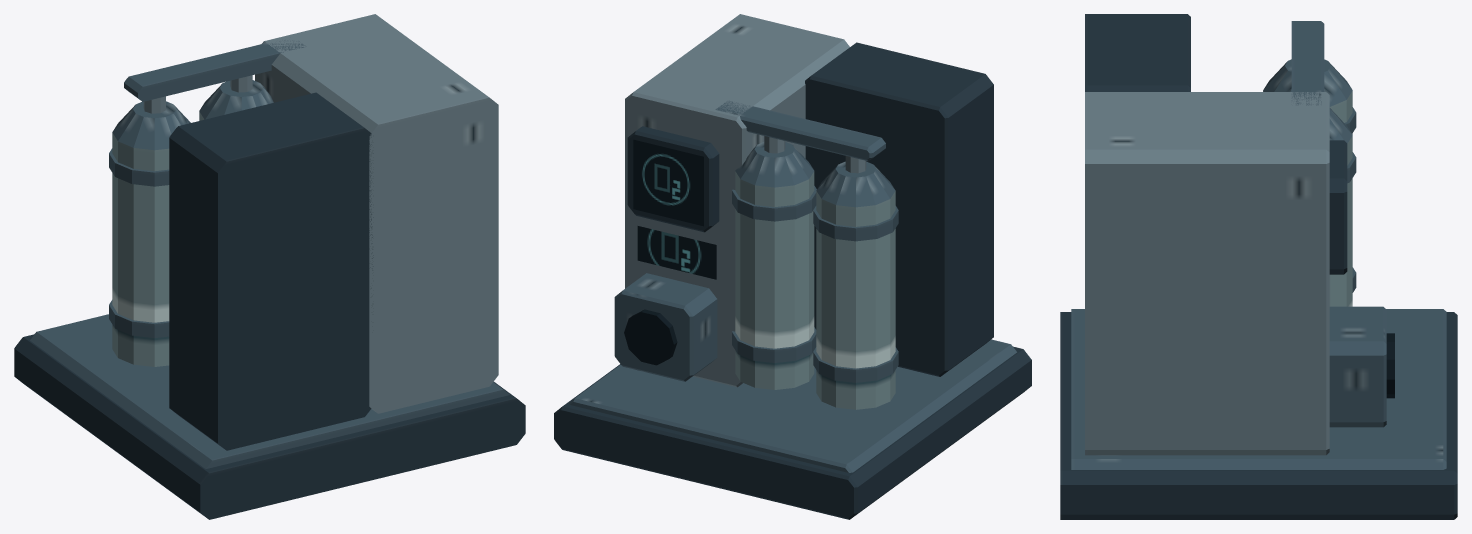
Rendered from life_support_station.obj.
3 views of the same model, side by side, from view 1: azimuth 30°, elevation 25°; view 2: azimuth 150°, elevation 25°; view 3: azimuth 270°, elevation 25° (orthographic). The views are drawn at different scales.
Parts seen in each view (by area): view 1: filter_bank, air_processor, plinth, plinth_trim, pressure_tank_3_9, manifold, tank_shoulder_3_9, tank_shoulder_7_8, tank_band_3_9_4_3, tank_band_3_9_10_8; view 2: filter_bank, air_processor, plinth_trim, plinth, pressure_tank_3_9, pressure_tank_7_8, canister_dock, oxygen_display, manifold, oxygen_display_bezel, service_label, tank_shoulder_3_9 (+6 smaller); view 3: air_processor, plinth, plinth_trim, filter_bank, canister_dock, manifold, oxygen_display_bezel, pressure_tank_7_8, tank_shoulder_3_9, charging_socket, tank_shoulder_7_8.
Part boxes in pixels (x1,y1,x2,y2): filter_bank: (169,92,373,450); air_processor: (255,14,498,413); plinth: (14,334,525,519); plinth_trim: (30,314,509,468); pressure_tank_3_9: (112,133,169,366); manifold: (124,40,306,101); tank_shoulder_3_9: (112,101,190,150); tank_shoulder_7_8: (199,80,273,119); tank_band_3_9_4_3: (109,300,169,338); tank_band_3_9_10_8: (109,148,169,186); filter_bank: (805,42,993,376); air_processor: (625,14,849,387); plinth_trim: (569,339,1016,472); plinth: (554,346,1031,519); pressure_tank_3_9: (816,191,895,409); pressure_tank_7_8: (735,171,814,389); canister_dock: (614,273,717,381); oxygen_display: (633,139,703,226); manifold: (715,100,885,161); oxygen_display_bezel: (627,126,719,232); service_label: (637,226,716,279); tank_shoulder_3_9: (816,161,895,207); air_processor: (1085,92,1329,455); plinth: (1060,312,1457,519); plinth_trim: (1071,309,1446,469); filter_bank: (1085,14,1190,91); canister_dock: (1329,306,1386,427); manifold: (1291,21,1324,105); oxygen_display_bezel: (1329,140,1347,274); pressure_tank_7_8: (1329,136,1352,306); tank_shoulder_3_9: (1263,59,1352,106); charging_socket: (1386,333,1394,398); tank_shoulder_7_8: (1329,108,1352,143).
Bounding box in the file's own units: 0.9125 × 0.9187 × 0.9125.
